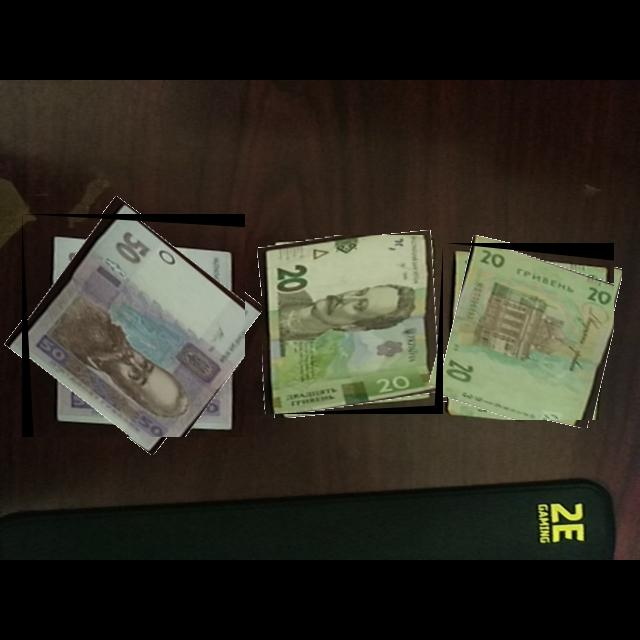20uah: (262, 235, 444, 415), (445, 243, 615, 421)
50uah: (22, 214, 246, 438)
